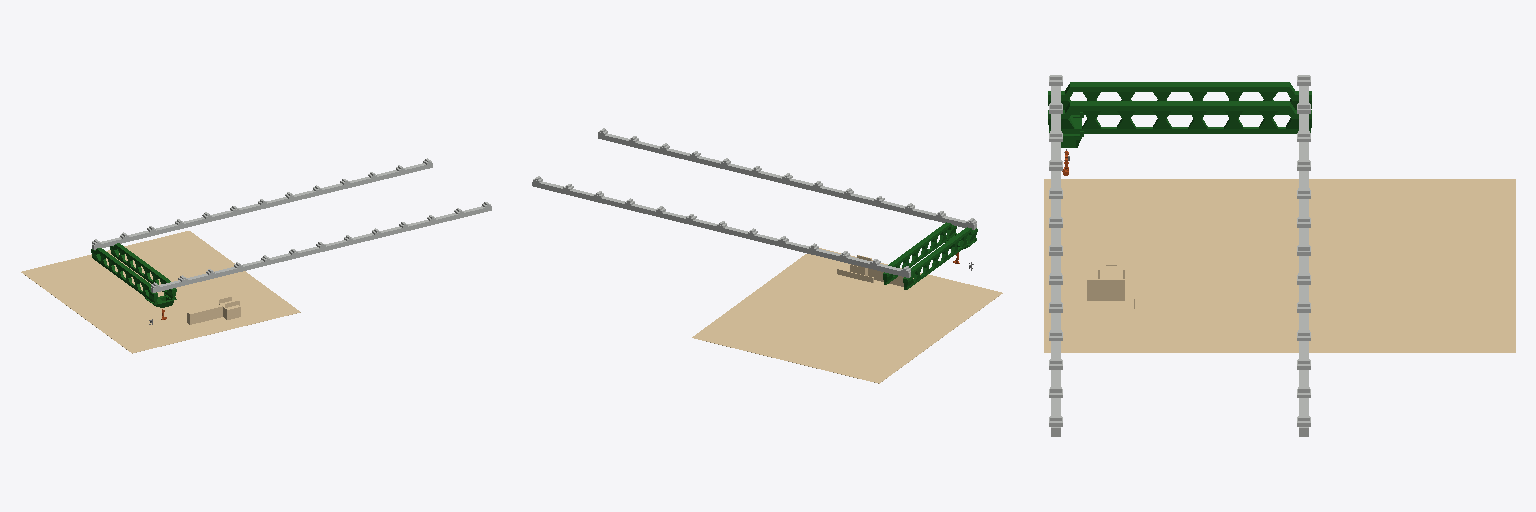
robot.urdf — eth_rfl:
<?xml version="1.0" ?>
<!-- =================================================================================== -->
<!-- |    This document was autogenerated by xacro from eth_rfl_fixed-xz.xacro         | -->
<!-- |    EDITING THIS FILE BY HAND IS NOT RECOMMENDED                                 | -->
<!-- =================================================================================== -->
<robot name="eth_rfl" xmlns:xacro="http://ros.org/wiki/xacro">
  <!-- Conversion were obtained from http://www.e-paint.co.uk/Lab_values.asp
       unless otherwise stated. -->
  <!-- link list -->
  <link name="robot_base_link">
    <visual>
      <origin rpy="0 0 0" xyz="0 0 0"/>
      <geometry>
        <mesh filename="../meshes/irb4400l_30_243/visual/base_link.stl"/>
      </geometry>
      <material name="">
        <color rgba="0.7372549 0.3490196 0.1607843 1"/>
      </material>
    </visual>
    <collision>
      <geometry>
        <mesh filename="../meshes/irb4400l_30_243/collision/base_link.stl"/>
      </geometry>
      <material name="">
        <color rgba="1 1 0 1"/>
      </material>
    </collision>
  </link>
  <link name="robot_link_1">
    <visual>
      <origin rpy="0 0 0" xyz="0 0 0"/>
      <geometry>
        <mesh filename="../meshes/irb4400l_30_243/visual/link_1.stl"/>
      </geometry>
      <material name="">
        <color rgba="0.7372549 0.3490196 0.1607843 1"/>
      </material>
    </visual>
    <collision>
      <origin rpy="0 0 0" xyz="0 0 0"/>
      <geometry>
        <mesh filename="../meshes/irb4400l_30_243/collision/link_1.stl"/>
      </geometry>
      <material name="">
        <color rgba="1 1 0 1"/>
      </material>
    </collision>
  </link>
  <link name="robot_link_2">
    <visual>
      <origin rpy="0 0 0" xyz="0 0 0"/>
      <geometry>
        <mesh filename="../meshes/irb4400l_30_243/visual/link_2.stl"/>
      </geometry>
      <material name="">
        <color rgba="0.7372549 0.3490196 0.1607843 1"/>
      </material>
    </visual>
    <collision>
      <origin rpy="0 0 0" xyz="0 0 0"/>
      <geometry>
        <mesh filename="../meshes/irb4400l_30_243/collision/link_2.stl"/>
      </geometry>
      <material name="">
        <color rgba="1 1 0 1"/>
      </material>
    </collision>
  </link>
  <link name="robot_link_3">
    <visual>
      <origin rpy="0 0 0" xyz="0 0 0"/>
      <geometry>
        <mesh filename="../meshes/irb4400l_30_243/visual/link_3.stl"/>
      </geometry>
      <material name="">
        <color rgba="0.7372549 0.3490196 0.1607843 1"/>
      </material>
    </visual>
    <collision>
      <origin rpy="0 0 0" xyz="0 0 0"/>
      <geometry>
        <mesh filename="../meshes/irb4400l_30_243/collision/link_3.stl"/>
      </geometry>
      <material name="">
        <color rgba="1 1 0 1"/>
      </material>
    </collision>
  </link>
  <link name="robot_link_4">
    <visual>
      <origin rpy="0 0 0" xyz="0 0 0"/>
      <geometry>
        <mesh filename="../meshes/irb4400l_30_243/visual/link_4.stl"/>
      </geometry>
      <material name="">
        <color rgba="0.7372549 0.3490196 0.1607843 1"/>
      </material>
    </visual>
    <collision>
      <origin rpy="0 0 0" xyz="0 0 0"/>
      <geometry>
        <mesh filename="../meshes/irb4400l_30_243/collision/link_4.stl"/>
      </geometry>
      <material name="">
        <color rgba="1 1 0 1"/>
      </material>
    </collision>
  </link>
  <link name="robot_link_5">
    <visual>
      <origin rpy="0 0 0" xyz="0 0 0"/>
      <geometry>
        <mesh filename="../meshes/irb4400l_30_243/visual/link_5.stl"/>
      </geometry>
      <material name="">
        <color rgba="0.7372549 0.3490196 0.1607843 1"/>
      </material>
    </visual>
    <collision>
      <origin rpy="0 0 0" xyz="0 0 0"/>
      <geometry>
        <mesh filename="../meshes/irb4400l_30_243/collision/link_5.stl"/>
      </geometry>
      <material name="">
        <color rgba="1 1 0 1"/>
      </material>
    </collision>
  </link>
  <link name="robot_link_6">
    <visual>
      <origin rpy="0 0 0" xyz="0 0 0"/>
      <geometry>
        <mesh filename="../meshes/irb4400l_30_243/visual/link_6.stl"/>
      </geometry>
      <material name="">
        <color rgba="0.1882353 0.1960784 0.2039216 1"/>
      </material>
    </visual>
    <collision>
      <origin rpy="0 0 0" xyz="0 0 0"/>
      <geometry>
        <mesh filename="../meshes/irb4400l_30_243/collision/link_6.stl"/>
      </geometry>
      <material name="">
        <color rgba="1 1 0 1"/>
      </material>
    </collision>
  </link>
  <link name="robot_tool0"/>
  <!-- end of link list -->
  <!-- joint list -->
  <joint name="robot_joint_1" type="revolute">
    <origin rpy="0 0 0" xyz="0 0 0"/>
    <parent link="robot_base_link"/>
    <child link="robot_link_1"/>
    <axis xyz="0 0 1"/>
    <limit effort="0" lower="-2.87979" upper="2.87979" velocity="2.618"/>
  </joint>
  <joint name="robot_joint_2" type="revolute">
    <origin rpy="0 0 0" xyz="0.2 0 0.68"/>
    <parent link="robot_link_1"/>
    <child link="robot_link_2"/>
    <axis xyz="0 1 0"/>
    <limit effort="0" lower="-1.2217" upper="1.658" velocity="2.0944"/>
  </joint>
  <joint name="robot_joint_3" type="revolute">
    <origin rpy="0 0 0" xyz="0 0 0.89"/>
    <parent link="robot_link_2"/>
    <child link="robot_link_3"/>
    <axis xyz="0 1 0"/>
    <limit effort="0" lower="-1.0472" upper="1.1345" velocity="2.0944"/>
  </joint>
  <joint name="robot_joint_4" type="revolute">
    <origin rpy="0 0 0" xyz="1.38 0 0.15"/>
    <parent link="robot_link_3"/>
    <child link="robot_link_4"/>
    <axis xyz="1 0 0"/>
    <limit effort="0" lower="-3.49" upper="3.49" velocity="3.927"/>
  </joint>
  <joint name="robot_joint_5" type="revolute">
    <origin rpy="0 0 0" xyz="0 0 0"/>
    <parent link="robot_link_4"/>
    <child link="robot_link_5"/>
    <axis xyz="0 1 0"/>
    <limit effort="0" lower="-2.0944" upper="2.0944" velocity="4.3633"/>
  </joint>
  <joint name="robot_joint_6" type="revolute">
    <origin rpy="0 0 0" xyz="0 0 0"/>
    <parent link="robot_link_5"/>
    <child link="robot_link_6"/>
    <axis xyz="1 0 0"/>
    <limit effort="0" lower="-6.9813" upper="6.9813" velocity="5.7596"/>
  </joint>
  <joint name="robot_joint_6-tool0" type="fixed">
    <parent link="robot_link_6"/>
    <child link="robot_tool0"/>
    <origin rpy="0 0 0" xyz="0.14 0 0"/>
  </joint>
  <!-- end of joint list -->
  <!-- ROS base_link to ABB World Coordinates transform -->
  <link name="robot_base"/>
  <joint name="robot_base_link-base" type="fixed">
    <origin rpy="0 0 0" xyz="0 0 0"/>
    <parent link="robot_base_link"/>
    <child link="robot_base"/>
  </joint>
  <!-- link list -->
  <!--
  <link name="eef_base_link"/>
  -->

  <link name="eef_base_link">
    <visual>
      <origin rpy="0 0 0" xyz="0.0 0.0 0.0"/>
      <geometry>
        <mesh filename="../meshes/eth_rfl_gripper/visual/eth_rfl_gripper_visual.stl" scale=".001 .001 .001"/>
      </geometry>
      <material name="grey">
        <color rgba="0.5 0.5 0.5 1.0"/>
      </material>
    </visual>
    <collision>
      <origin rpy="0 0 0" xyz="0.0 0.0 0.0"/>
      <geometry>
        <mesh filename="../meshes/eth_rfl_gripper/collision/eth_rfl_gripper_collision.stl" scale=".001 .001 .001"/>
      </geometry>
      <material name="red">
        <color rgba="1 0 0 1"/>
      </material>
    </collision>
  </link>

  <link name="eef_tcp_frame"/>
  <!-- end of link list -->
  <!-- joint list -->
  <!--
  <joint name="eef_base_to_tcp" type="fixed">
    <origin rpy="0 0 0" xyz="0.0 0.0 0"/>
    <parent link="eef_base_link"/>
    <child link="eef_tcp_frame"/>
  </joint>
  -->
  <joint name="eef_base_to_tcp" type="fixed">
    <origin rpy="0 0 0" xyz="0.0 0.0 0.475"/>
    <parent link="eef_base_link"/>
    <child link="eef_tcp_frame"/>
  </joint>

  <!-- end of joint list -->
  <!--	Link list-->
  <link name="gantry_base_link">
    <visual>
      <geometry>
        <mesh filename="../meshes/eth_rfl_track/visual/eth_gudel_track_x_rail_visual.stl" scale=".001 .001 .001"/>
      </geometry>
      <material name="">
        <color rgba="0.772549019608 0.780392156863 0.76862745098 1.0"/>
      </material>
    </visual>
    <collision>
      <geometry>
        <mesh filename="../meshes/eth_rfl_track/collision/eth_gudel_track_x_rail_collision.stl" scale=".001 .001 .001"/>
      </geometry>
      <material name="">
        <color rgba="0.772549019608 0.780392156863 0.76862745098 1.0"/>
      </material>
    </collision>
  </link>
  <link name="gantry_y_bridge">
    <visual>
      <geometry>
        <mesh filename="../meshes/eth_rfl_track/visual/eth_gudel_track_y_bridge_visual.stl" scale=".001 .001 .001"/>
      </geometry>
      <material name="">
        <color rgba="0.15 0.415 0.165 1.0"/>
      </material>
    </visual>
    <collision>
      <geometry>
        <mesh filename="../meshes/eth_rfl_track/collision/eth_gudel_track_y_bridge_collision.stl" scale=".001 .001 .001"/>
      </geometry>
      <material name="">
        <color rgba="0.15 0.415 0.165 1.0"/>
      </material>
    </collision>
  </link>
  <link name="gantry_xy_carriage">
    <visual>
      <geometry>
        <mesh filename="../meshes/eth_rfl_track/visual/eth_gudel_track_xy_carriage_visual.stl" scale=".001 .001 .001"/>
      </geometry>
      <material name="">
        <color rgba="0.15 0.415 0.165 1.0"/>
      </material>
    </visual>
    <collision>
      <geometry>
        <mesh filename="../meshes/eth_rfl_track/collision/eth_gudel_track_xy_carriage_collision.stl" scale=".001 .001 .001"/>
      </geometry>
      <material name="">
        <color rgba="0.15 0.415 0.165 1.0"/>
      </material>
    </collision>
  </link>
  <link name="gantry_z_carriage">
    <visual>
      <geometry>
        <mesh filename="../meshes/eth_rfl_track/visual/eth_gudel_track_z_carriage_visual.stl" scale=".001 .001 .001"/>
      </geometry>
      <material name="">
        <color rgba="0.772549019608 0.780392156863 0.76862745098 1.0"/>
      </material>
    </visual>
    <collision>
      <geometry>
        <mesh filename="../meshes/eth_rfl_track/collision/eth_gudel_track_z_carriage_collision.stl" scale=".001 .001 .001"/>
      </geometry>
      <material name="">
        <color rgba="0.772549019608 0.780392156863 0.76862745098 1.0"/>
      </material>
    </collision>
  </link>
  <link name="gantry_robot_mount"/>
  <!--	End of link list-->
  <!-- Joint list -->
  <!--
<joint name="gantry_x_joint" type="prismatic">
    <parent link="gantry_base_link"/>
    <child link="gantry_y_bridge"/>
    <origin rpy="0 0 0" xyz="0 0 0"/>
    <axis xyz="1 0 0"/>
    <limit effort="1" lower="0" upper="20" velocity="1.5"/>
  </joint>
  <joint name="gantry_y_joint" type="prismatic">
    <parent link="gantry_y_bridge"/>
    <child link="gantry_xy_carriage"/>
    <origin rpy="0 0 0" xyz="0 0 0"/>
    <axis xyz="0 1 0"/>
    <limit effort="1" lower="0" upper="12.673" velocity="1.5"/>
  </joint>
  -->
  <joint name="gantry_z_joint" type="prismatic">
    <parent link="gantry_xy_carriage"/>
    <child link="gantry_z_carriage"/>
    <origin rpy="0 0 0" xyz="0 0 0"/>
    <axis xyz="0 0 -1"/>
    <limit effort="1" lower="0" upper="1.227" velocity="1"/>
  </joint>
  
 <joint name="gantry_x_joint" type="fixed">
    <parent link="gantry_base_link"/>
    <child link="gantry_y_bridge"/>
    <origin rpy="0 0 0" xyz="0 0 0"/> <!-- 10.5 x -->
  </joint>
  <!--
  <joint name="gantry_y_joint" type="prismatic">
    <parent link="gantry_y_bridge"/>
    <child link="gantry_xy_carriage"/>
    <origin rpy="0 0 0" xyz="0 0 0"/>
    <axis xyz="0 1 0"/>
    <limit effort="1" lower="0" upper="12.673" velocity="1.5"/>
  </joint>
  -->
 <joint name="gantry_y_joint" type="fixed">
    <parent link="gantry_y_bridge"/>
    <child link="gantry_xy_carriage"/>
    <origin rpy="0 0 0" xyz="0 0 0"/>   
</joint>
 
<!--
  <joint name="gantry_z_joint" type="fixed">
    <parent link="gantry_xy_carriage"/>
    <child link="gantry_z_carriage"/>
    <origin rpy="0 0 0" xyz="0 0 -1"/>
  </joint>
  -->

  <joint name="gantry_z_carriage_mount" type="fixed">
    <parent link="gantry_z_carriage"/>
    <child link="gantry_robot_mount"/>
    <origin rpy="0 3.14159265359 0" xyz="0.545 -0.0075 -1.2"/>
  </joint>
  <!-- End of joint list -->
  <link name="workspace_base_link"/>
  <link name="workspace_objects">
    <visual>
      <geometry>
        <mesh filename="../meshes/eth_rfl_workspace/collision/robarch_2018_workspace_collision.stl" scale=".001 .001 .001"/>
      </geometry>
      <material name="">
        <color rgba="0.909803921569 0.81568627451 0.662745098039 1.0"/>
      </material>
    </visual>
    <collision>
      <geometry>
        <mesh filename="../meshes/eth_rfl_workspace/collision/robarch_2018_workspace_collision.stl" scale=".001 .001 .001"/>
      </geometry>
    </collision>
  </link>
  <joint name="workspace_baselink_to_objects" type="fixed">
    <parent link="workspace_base_link"/>
    <child link="workspace_objects"/>
    <origin rpy="0 0 0" xyz="0 0 0"/>
  </joint>
  <!-- Link list -->
  <link name="base_link"/>
  <!-- End of link list -->
  <!-- Joint list -->
  <!--bind the rail to word_frame, can be disabled if using modile platform-->
  <joint name="gantry_to_base_link" type="fixed">
    <origin rpy="0 0 0" xyz="1.550 0.8675 5.7766"/>
    <parent link="base_link"/>
    <child link="gantry_base_link"/>
  </joint>
  <joint name="robot_to_gantry" type="fixed">
    <origin rpy="0 0 0" xyz="0 0 0"/>
    <parent link="gantry_robot_mount"/>
    <child link="robot_base_link"/>
  </joint>

<joint name="ee_to_robot" type="fixed">
    <parent link="robot_tool0"/>
    <child link="eef_base_link"/>
    <origin rpy="0 1.57079632679 0" xyz="0 0 0"/>
  </joint>

  <joint name="world_to_workspace" type="fixed">
    <parent link="base_link"/>
    <child link="workspace_base_link"/>
    <origin rpy="0 0 0" xyz="0 0 0"/>
  </joint>
  <!-- End of joint list -->
</robot>

--- Render facts (derived) ---
3 views of the same robot in one strip: view 1: azimuth 30°, elevation 25°; view 2: azimuth 150°, elevation 25°; view 3: azimuth 270°, elevation 25° (orthographic).
Robot: eth_rfl — 19 links, 18 joints (6 revolute, 1 prismatic, 11 fixed); root link base_link; default pose: all joints at 0.
Visible links, largest first — view 1: workspace_objects, gantry_base_link, gantry_y_bridge; view 2: workspace_objects, gantry_base_link, gantry_y_bridge; view 3: workspace_objects, gantry_y_bridge, gantry_base_link.
Boxes of the visible links, x1=… form: workspace_objects: x1=21, y1=231, x2=300, y2=353; gantry_base_link: x1=92, y1=158, x2=491, y2=292; gantry_y_bridge: x1=91, y1=243, x2=176, y2=303; workspace_objects: x1=692, y1=248, x2=1002, y2=383; gantry_base_link: x1=532, y1=128, x2=976, y2=277; gantry_y_bridge: x1=883, y1=222, x2=977, y2=289; workspace_objects: x1=1044, y1=179, x2=1515, y2=352; gantry_y_bridge: x1=1048, y1=82, x2=1311, y2=133; gantry_base_link: x1=1049, y1=75, x2=1310, y2=436.
Size in the robot's own frame: 49.02 by 26.27 by 8.01 metres.
7 mesh visuals loaded from 13 distinct referenced files (7 binary STL); not drawn: 6 (reference not matched to a file when rendering).